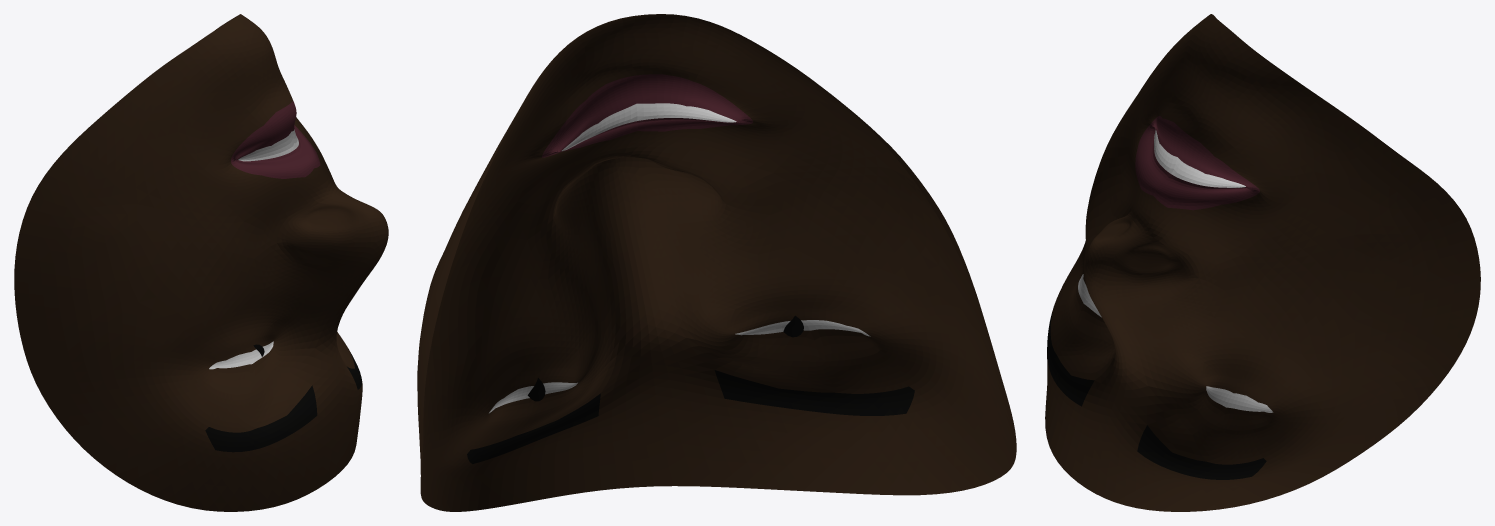
The model's file is VID-20250515-WA0008_f_00044.obj.
3 renders of one model, left to right at view 1: azimuth 30°, elevation 25°; view 2: azimuth 150°, elevation 25°; view 3: azimuth 270°, elevation 25°, orthographic. The views are drawn at different scales.
Visible parts, largest first — view 1: face_mesh_subdivided; view 2: face_mesh_subdivided; view 3: face_mesh_subdivided.
Boxes of the visible parts, left/top/right/bottom form: face_mesh_subdivided: left=14, top=14, right=388, bottom=511; face_mesh_subdivided: left=417, top=14, right=1016, bottom=511; face_mesh_subdivided: left=1045, top=14, right=1480, bottom=511.
Size of the model in its own units: 0.4261 by 0.4684 by 0.4272.
